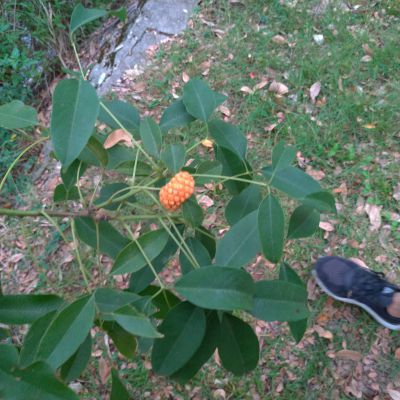eggs: (156, 168, 199, 209)
